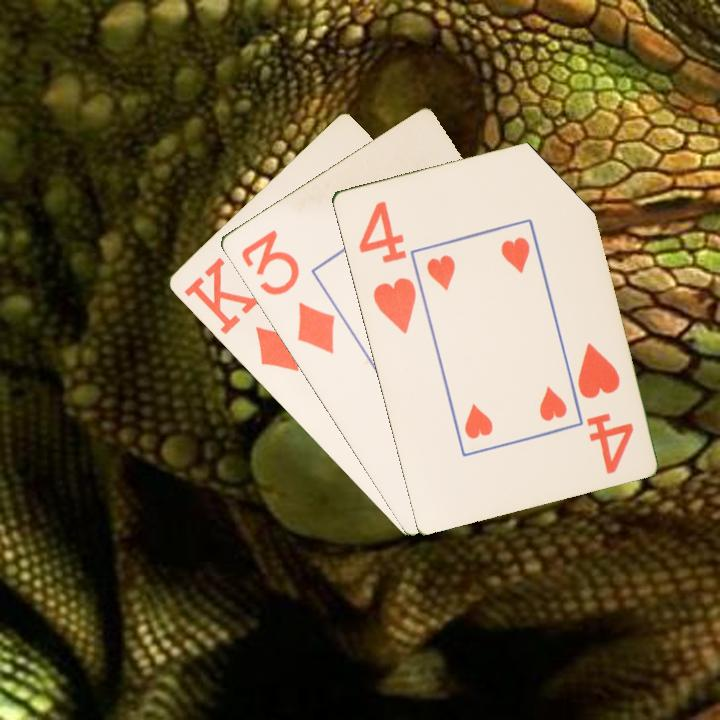3d: (236, 226, 338, 357)
4h: (354, 197, 419, 337), (573, 339, 636, 477)
Kd: (180, 253, 302, 375)
